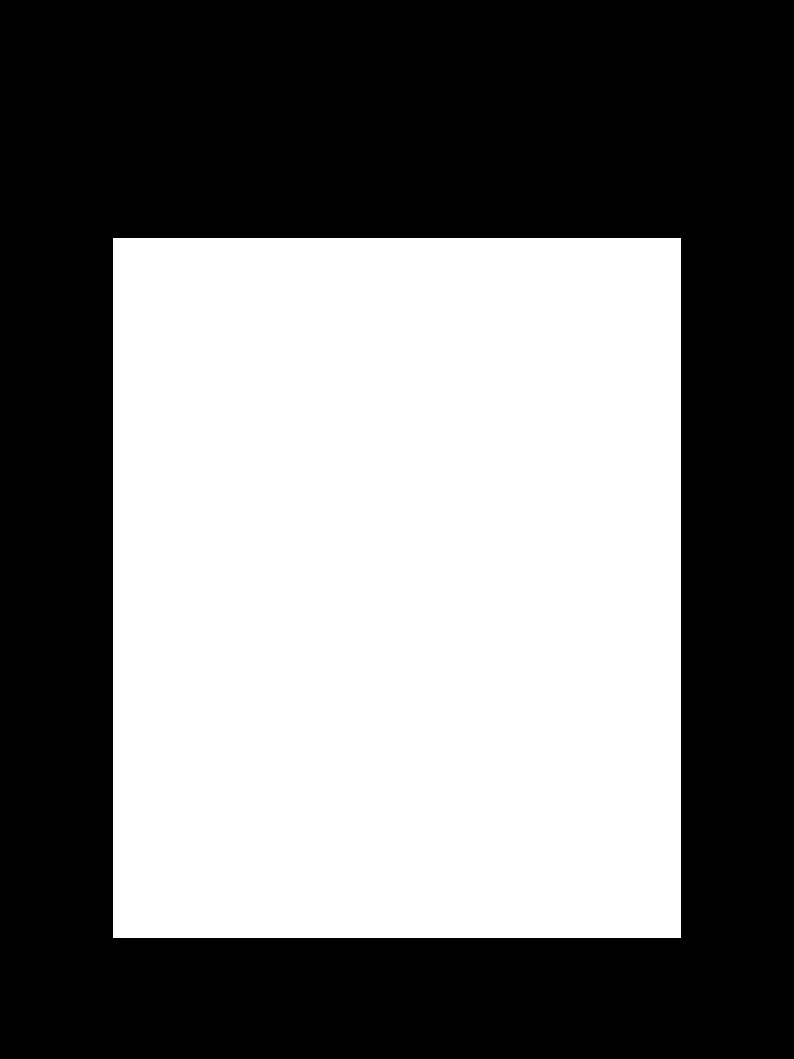table: (113, 238, 680, 937)
